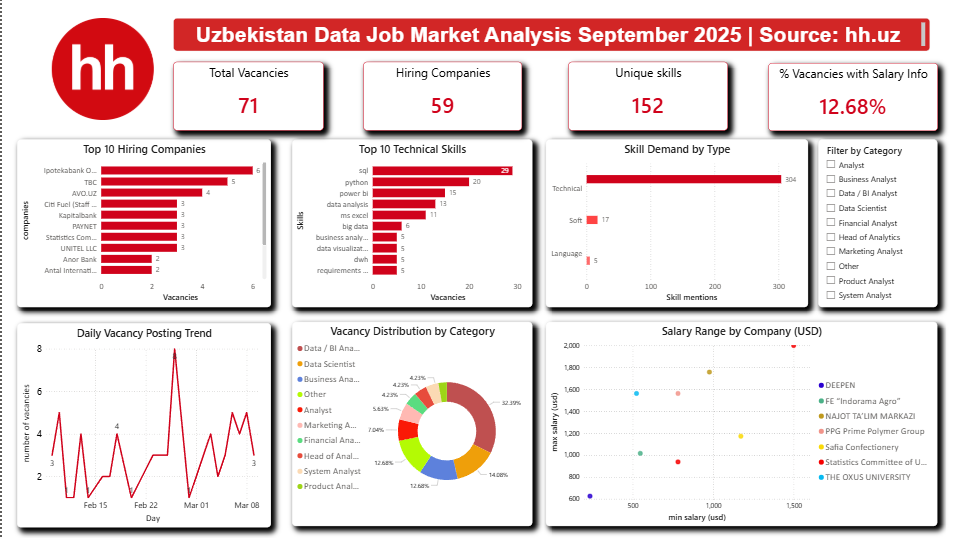

The page's visual inventory and layout, read from the dashboard file:
{"tool":"powerbi","page":{"name":"Overview","canvas":[1920,1080],"ordinal":0},"visuals":[{"type":"barChart","title":"Top 10 Technical Skills","fields":{"Category":["hh_skills_clean.name"],"Y":["CountNonNull(hh_vacancy_skill_clean.h_id)"]},"box":[579.6,282.5,480.6,335.7],"z":0},{"type":"donutChart","title":"Vacancy Distribution by Category","fields":{"Category":["hh_vacancies_clean.category_en"],"Y":["CountNonNull(hh_vacancies_clean.h_id)"]},"box":[579.6,647.5,480.6,409],"z":1000},{"type":"barChart","title":"Top 10 Hiring Companies","fields":{"Category":["hh_vacancies_clean.company"],"Y":["CountNonNull(hh_vacancies_clean.h_id)"]},"box":[29.3,282.5,508.1,335.7],"z":2000},{"type":"lineChart","title":"Daily Vacancy Posting Trend","fields":{"Y":["CountNonNull(hh_vacancies_clean.h_id)"],"Category":["hh_vacancies_clean.publish_date.Variation.Date Hierarchy.Year","hh_vacancies_clean.publish_date.Variation.Date Hierarchy.Quarter","hh_vacancies_clean.publish_date.Variation.Date Hierarchy.Month","hh_vacancies_clean.publish_date.Variation.Date Hierarchy.Day"]},"box":[29.3,649.3,508.1,409],"z":3000},{"type":"card","title":"Total Vacancies","fields":{"Values":["CountNonNull(hh_vacancies_clean.h_id)"]},"box":[343,128.4,300.8,137.6],"z":4000},{"type":"card","title":"Hiring Companies","fields":{"Values":["Count(hh_companies.name)"]},"box":[722.7,128.4,317.3,137.6],"z":5000},{"type":"card","title":"Unique skills","fields":{"Values":["Count(hh_skills_clean.name)"]},"box":[1131.7,128.4,319.2,137.6],"z":6000},{"type":"scatterChart","title":"Salary Range by Company (USD)","fields":{"X":["hh_vacancies_clean.min_salary_usd"],"Y":["hh_vacancies_clean.max_salary_usd"],"Series":["hh_vacancies_clean.company"]},"box":[1087.7,647.5,783.2,409],"z":7000},{"type":"card","title":"% Vacancies with Salary Info","fields":{"Values":["hh_companies.Salary Disclosed %"]},"box":[1531.6,130.2,339.3,135.7],"z":8000},{"type":"image","box":[29.3,40.4,343,203.6],"z":9000},{"type":"textbox","box":[343,40.4,1513.3,66],"z":10000},{"type":"clusteredBarChart","title":"Skill Demand by Type","fields":{"Category":["hh_skills_clean.skill_type"],"Y":["CountNonNull(hh_vacancy_skill_clean.h_id)"],"Series":["hh_skills_clean.skill_type"]},"box":[1087.7,282.5,524.6,335.7],"z":11000},{"type":"slicer","fields":{"Values":["hh_vacancies_clean.category_en"]},"box":[1632.5,282.5,238.5,335.7],"z":12000}]}

Visuals, with their boxes in screenshot pixels (x1, y1, x2, y2), scaled from the page's 1920x1080 canvas onto the 962x538 screenshot:
"Top 10 Technical Skills" barChart: bbox=[290, 141, 531, 308]
"Vacancy Distribution by Category" donutChart: bbox=[290, 323, 531, 526]
"Top 10 Hiring Companies" barChart: bbox=[15, 141, 269, 308]
"Daily Vacancy Posting Trend" lineChart: bbox=[15, 323, 269, 527]
"Total Vacancies" card: bbox=[172, 64, 323, 133]
"Hiring Companies" card: bbox=[362, 64, 521, 133]
"Unique skills" card: bbox=[567, 64, 727, 133]
"Salary Range by Company (USD)" scatterChart: bbox=[545, 323, 937, 526]
"% Vacancies with Salary Info" card: bbox=[767, 65, 937, 132]
image: bbox=[15, 20, 187, 122]
textbox: bbox=[172, 20, 930, 53]
"Skill Demand by Type" clusteredBarChart: bbox=[545, 141, 808, 308]
slicer - hh_vacancies_clean.category_en: bbox=[818, 141, 937, 308]
